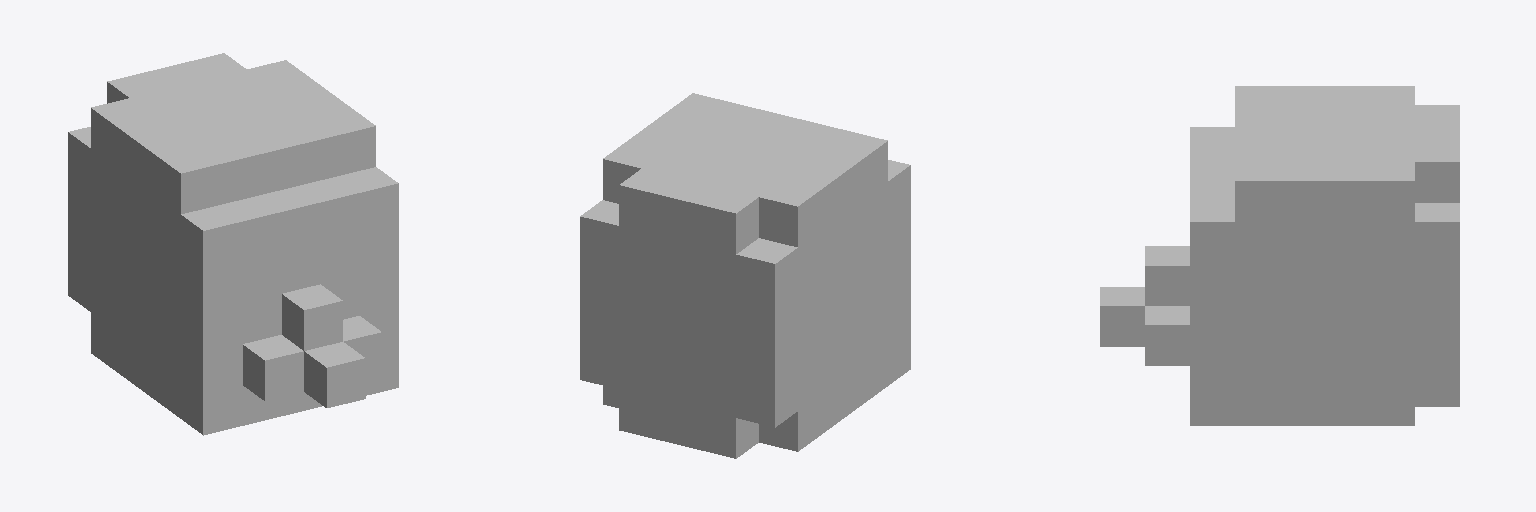
Rendered from Head.obj.
3 views of the same model, side by side, from view 1: azimuth 30°, elevation 25°; view 2: azimuth 150°, elevation 25°; view 3: azimuth 270°, elevation 25° (orthographic).
Parts seen in each view (by area): view 1: object 1; view 2: object 1; view 3: object 1.
Boxes of the visible parts, box(x1,y1,x2,y2) form: object 1: box(68, 53, 398, 435); object 1: box(580, 93, 910, 458); object 1: box(1100, 86, 1459, 425).
Bounding box in the file's own units: 0.5 × 0.6 × 0.8.